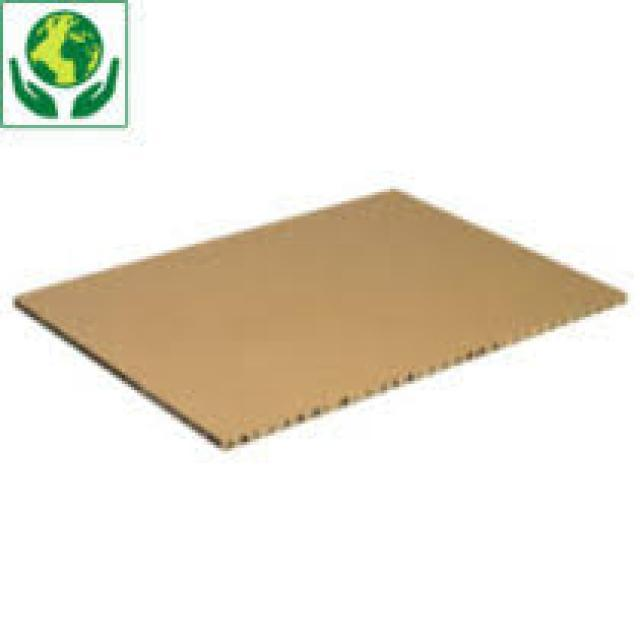Cardboard: (12, 181, 634, 450)
